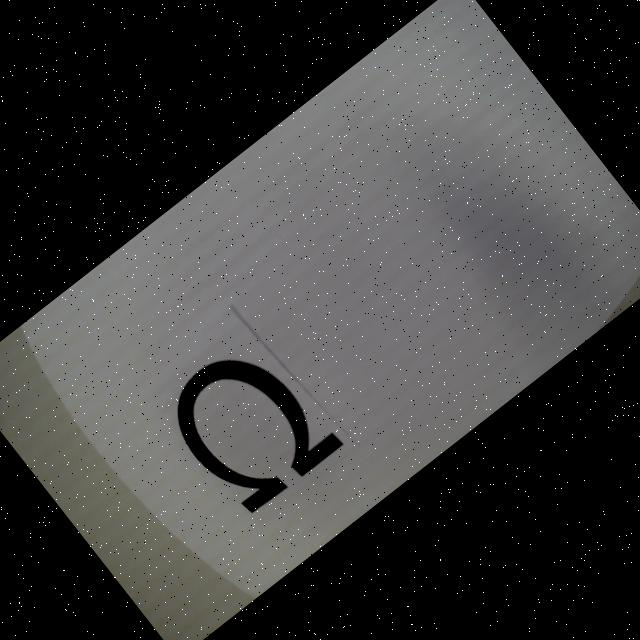OMEGA: (154, 328, 344, 522)
